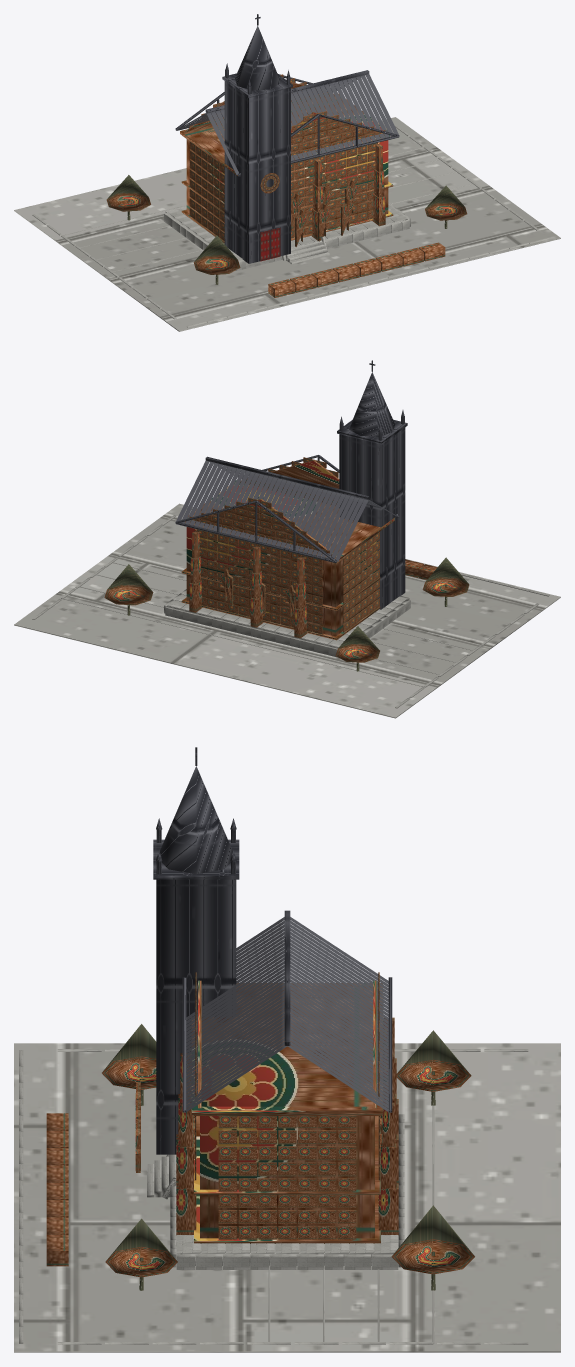
3 renders of one model, top to bottom at view 1: azimuth 30°, elevation 25°; view 2: azimuth 150°, elevation 25°; view 3: azimuth 270°, elevation 25°, orthographic. The views are drawn at different scales.
Visible parts, largest first — view 1: 11140_02_04519_006_06__churchyard_paving, 11140_02_04519_006_03__spire_cross_pinnacle, 11140_02_04519_006_02__red_brick_nave_buttress, 11140_02_04519_006_06__churchyard_trees, 11140_02_04519_006_03__slate_gable_roof, 11140_02_04519_006_01__granite_plinth_stone, 11140_02_04519_006_05__pointed_arch_stained_glass, 11140_02_04519_006_05__entrance_door_panels; view 2: 11140_02_04519_006_06__churchyard_paving, 11140_02_04519_006_02__red_brick_nave_buttress, 11140_02_04519_006_03__spire_cross_pinnacle, 11140_02_04519_006_03__slate_gable_roof, 11140_02_04519_006_01__granite_plinth_stone, 11140_02_04519_006_06__churchyard_trees, 11140_02_04519_006_05__pointed_arch_stained_glass; view 3: 11140_02_04519_006_06__churchyard_paving, 11140_02_04519_006_02__red_brick_nave_buttress, 11140_02_04519_006_03__slate_gable_roof, 11140_02_04519_006_03__spire_cross_pinnacle, 11140_02_04519_006_06__churchyard_trees, 11140_02_04519_006_01__granite_plinth_stone.
Part boxes in pixels (<box>): 11140_02_04519_006_06__churchyard_paving: <box>14,117,560,331</box>; 11140_02_04519_006_03__spire_cross_pinnacle: <box>175,14,399,263</box>; 11140_02_04519_006_02__red_brick_nave_buttress: <box>180,74,393,243</box>; 11140_02_04519_006_06__churchyard_trees: <box>106,175,467,297</box>; 11140_02_04519_006_03__slate_gable_roof: <box>176,74,398,174</box>; 11140_02_04519_006_01__granite_plinth_stone: <box>164,202,410,270</box>; 11140_02_04519_006_05__pointed_arch_stained_glass: <box>260,173,359,246</box>; 11140_02_04519_006_05__entrance_door_panels: <box>260,228,280,261</box>; 11140_02_04519_006_06__churchyard_paving: <box>14,503,560,718</box>; 11140_02_04519_006_02__red_brick_nave_buttress: <box>181,457,394,640</box>; 11140_02_04519_006_03__spire_cross_pinnacle: <box>175,360,407,609</box>; 11140_02_04519_006_03__slate_gable_roof: <box>176,460,398,561</box>; 11140_02_04519_006_01__granite_plinth_stone: <box>164,589,410,657</box>; 11140_02_04519_006_06__churchyard_trees: <box>104,557,469,671</box>; 11140_02_04519_006_05__pointed_arch_stained_glass: <box>219,569,295,616</box>; 11140_02_04519_006_06__churchyard_paving: <box>14,1043,560,1352</box>; 11140_02_04519_006_02__red_brick_nave_buttress: <box>176,972,398,1243</box>; 11140_02_04519_006_03__slate_gable_roof: <box>186,917,388,1111</box>; 11140_02_04519_006_03__spire_cross_pinnacle: <box>153,747,392,1154</box>; 11140_02_04519_006_06__churchyard_trees: <box>46,1024,474,1290</box>; 11140_02_04519_006_01__granite_plinth_stone: <box>147,1114,404,1269</box>.
Size of the model in its own units: 40 by 24.5 by 30.
7 materials, 7 textured.
